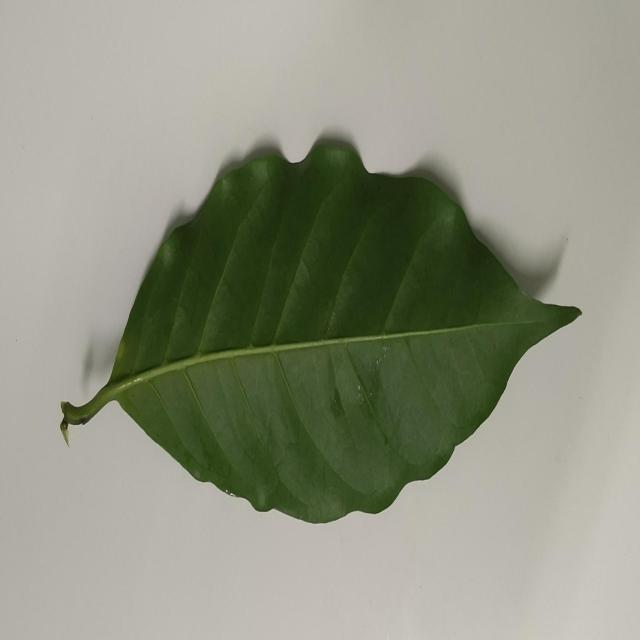Sanas: (60, 129, 582, 526)
